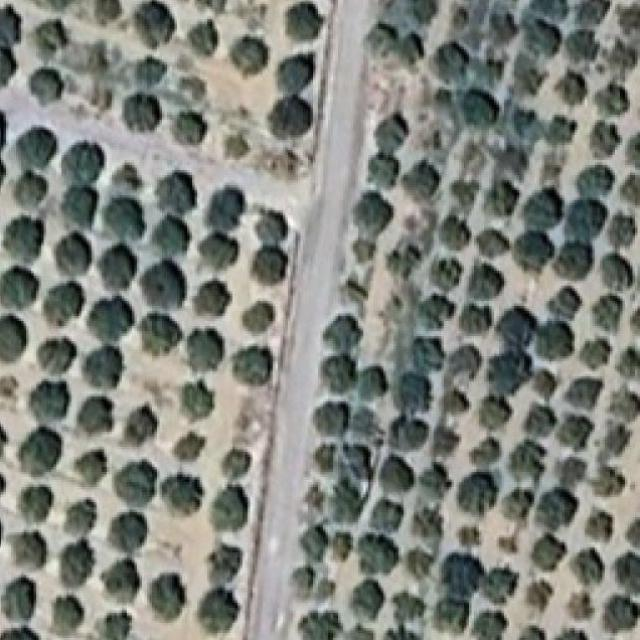Tree: (434, 552, 484, 601), (140, 260, 185, 310), (87, 296, 134, 342), (18, 427, 61, 476), (487, 350, 531, 396), (114, 460, 157, 507), (134, 0, 176, 48), (268, 94, 313, 138), (60, 141, 104, 185), (353, 192, 394, 239), (429, 592, 473, 635), (199, 587, 240, 633), (3, 215, 43, 262), (565, 199, 607, 243), (98, 243, 136, 291), (536, 487, 578, 530), (139, 312, 182, 354), (523, 188, 564, 232), (82, 345, 123, 389), (102, 557, 141, 603), (43, 283, 84, 326), (160, 474, 203, 515), (496, 306, 536, 350), (210, 485, 248, 531), (514, 230, 555, 272), (30, 380, 71, 422), (104, 198, 144, 241), (156, 171, 196, 214), (208, 187, 245, 233), (149, 574, 185, 621), (358, 533, 399, 574), (232, 345, 273, 386), (459, 472, 498, 515), (17, 128, 57, 169), (109, 511, 148, 553), (0, 266, 38, 309), (60, 538, 94, 586), (1, 576, 36, 622), (521, 18, 562, 57), (276, 53, 314, 95), (152, 214, 190, 256), (62, 185, 98, 229), (198, 232, 239, 270), (367, 113, 409, 150), (56, 231, 92, 274), (330, 477, 364, 522), (123, 92, 162, 131), (552, 242, 592, 280), (510, 440, 546, 482), (188, 329, 224, 371), (461, 89, 499, 128), (402, 160, 439, 200), (232, 35, 268, 76), (536, 321, 574, 359), (285, 3, 323, 41), (323, 315, 362, 352), (434, 41, 469, 82), (350, 578, 384, 620), (124, 404, 158, 446), (208, 544, 242, 586), (194, 279, 232, 316), (180, 380, 214, 421), (252, 246, 288, 284), (38, 337, 76, 373), (9, 532, 47, 568), (321, 354, 355, 394), (514, 53, 546, 95), (250, 211, 288, 246), (389, 416, 428, 450), (398, 372, 430, 413), (556, 414, 592, 450), (418, 294, 454, 330), (0, 315, 27, 363), (605, 596, 640, 633), (570, 548, 604, 586), (78, 396, 112, 434), (606, 39, 637, 80), (469, 264, 504, 300), (386, 242, 421, 278), (18, 486, 53, 522), (380, 455, 414, 492), (30, 68, 64, 105), (13, 170, 47, 207), (601, 252, 634, 290), (532, 534, 566, 570), (485, 180, 519, 216), (576, 165, 614, 197), (299, 612, 342, 640), (54, 596, 84, 636), (369, 498, 404, 532), (314, 402, 349, 436), (595, 82, 630, 116), (484, 568, 518, 602), (173, 111, 207, 145), (74, 450, 106, 486), (343, 443, 373, 481), (478, 396, 511, 430), (448, 346, 481, 380), (412, 337, 444, 372), (590, 122, 621, 158), (548, 286, 580, 320), (368, 152, 399, 187), (496, 145, 527, 180), (420, 462, 450, 498), (566, 380, 602, 410), (592, 295, 622, 331), (66, 498, 96, 534), (554, 72, 586, 105), (566, 29, 598, 62), (242, 301, 274, 334), (609, 388, 640, 422), (431, 258, 462, 292), (440, 215, 470, 250), (188, 21, 218, 56), (38, 20, 68, 55), (501, 488, 532, 521), (591, 466, 625, 496), (358, 366, 388, 400), (512, 109, 542, 143), (368, 22, 398, 56), (489, 9, 518, 44), (300, 526, 328, 562), (616, 552, 640, 594), (608, 212, 636, 248), (392, 592, 424, 623), (476, 228, 509, 258), (526, 404, 556, 436), (222, 448, 252, 480), (472, 612, 506, 640), (586, 508, 614, 542), (540, 149, 566, 185), (460, 304, 491, 334), (580, 338, 610, 369), (136, 56, 167, 86), (470, 437, 500, 467), (173, 432, 204, 461), (0, 5, 22, 45), (413, 508, 442, 538), (398, 33, 424, 66), (406, 548, 434, 578), (546, 116, 576, 144), (461, 141, 485, 176), (112, 162, 142, 190), (102, 612, 132, 640), (84, 86, 114, 114), (576, 0, 610, 24), (560, 457, 586, 488), (605, 425, 631, 456), (530, 0, 568, 21), (0, 48, 21, 86), (451, 180, 479, 208), (85, 40, 108, 74), (526, 580, 552, 610), (434, 426, 460, 456), (352, 406, 378, 436), (291, 566, 315, 598), (532, 370, 556, 400), (406, 0, 436, 24), (0, 374, 18, 414), (566, 592, 592, 619), (94, 0, 122, 25), (618, 348, 640, 378), (444, 388, 469, 414), (224, 134, 250, 159), (619, 4, 640, 34), (179, 77, 205, 101), (332, 532, 352, 562), (344, 278, 368, 303), (314, 444, 335, 472), (384, 624, 420, 640), (352, 238, 376, 262), (621, 174, 640, 204), (304, 483, 324, 510), (0, 627, 39, 640), (485, 59, 504, 85), (626, 132, 640, 167), (346, 624, 374, 640), (315, 578, 335, 600), (459, 526, 480, 546), (626, 520, 640, 548), (520, 625, 546, 640), (554, 628, 586, 640), (453, 7, 469, 29), (497, 536, 516, 552), (435, 88, 451, 106), (0, 110, 6, 156), (0, 423, 7, 458), (0, 156, 6, 191), (432, 130, 441, 148), (0, 472, 6, 496), (0, 518, 4, 548)
